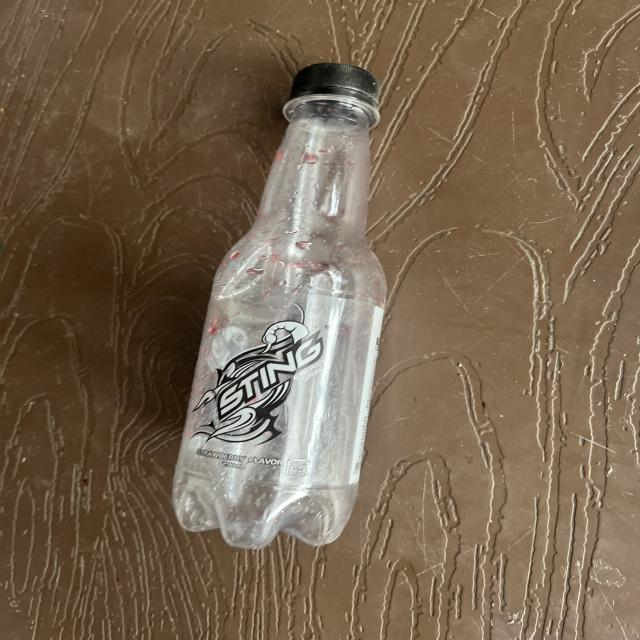REJECT: (175, 70, 568, 556)
